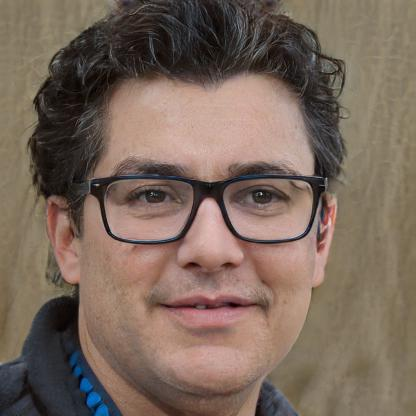glasses: (80, 167, 329, 247)
